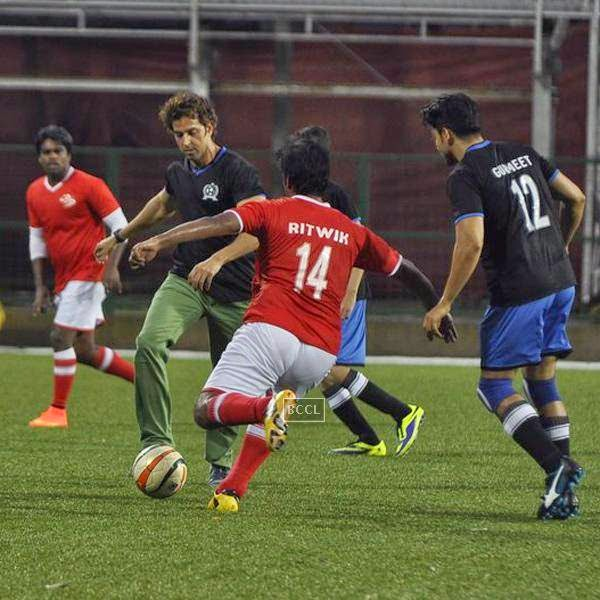soccer player: (132, 129, 461, 519), (415, 87, 600, 513), (96, 88, 247, 486), (21, 122, 138, 436)
soccerball: (130, 444, 190, 499)
